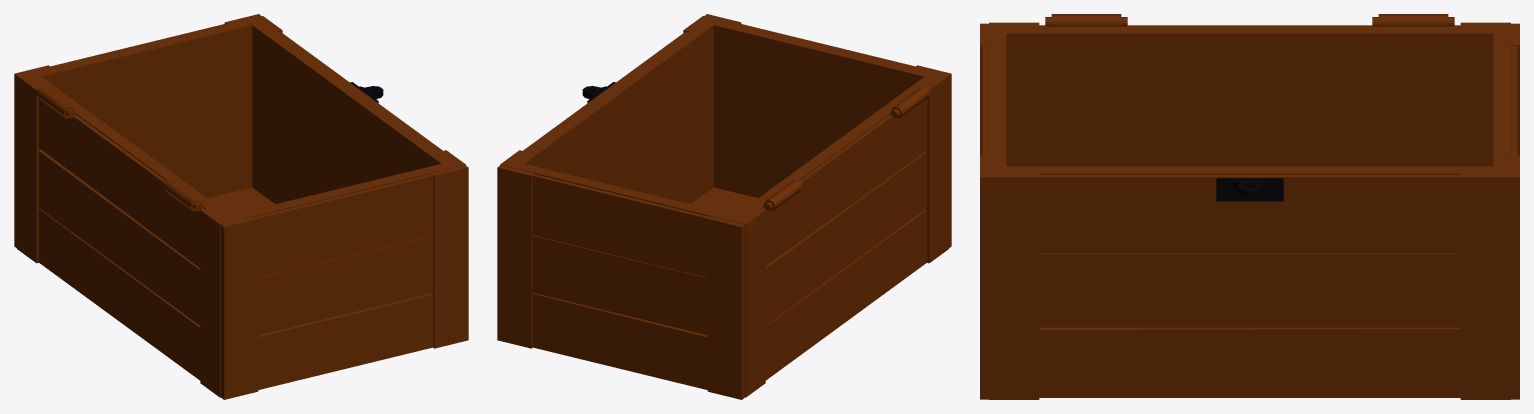
Rendered from WoodChest_Bottom4.fbx.
The picture shows the model from 3 angles, left to right: view 1: azimuth 30°, elevation 25°; view 2: azimuth 150°, elevation 25°; view 3: azimuth 270°, elevation 25°; orthographic projection. The views are drawn at different scales.
Visible parts, largest first — view 1: SM_WoodChest_Bottom_LOD0; view 2: SM_WoodChest_Bottom_LOD0; view 3: SM_WoodChest_Bottom_LOD0.
Boxes of the visible parts, left/top/right/bottom form: SM_WoodChest_Bottom_LOD0: left=14, top=14, right=468, bottom=399; SM_WoodChest_Bottom_LOD0: left=497, top=14, right=951, bottom=399; SM_WoodChest_Bottom_LOD0: left=980, top=14, right=1519, bottom=399.
Size of the model in its own units: 18.01 by 11.5 by 24.43.
